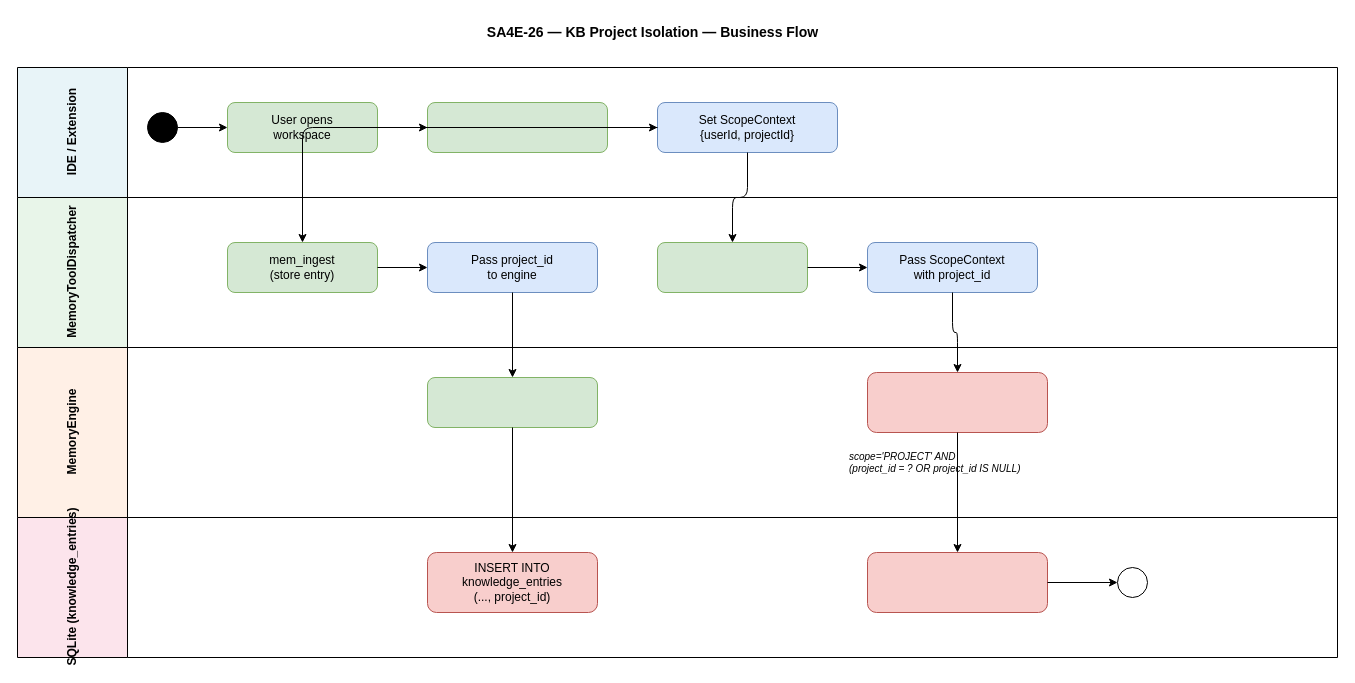
This 1355x683 diagram has some shape labels left out. The shapes that lost their labels are listed below. From the top down, each one's centre as x and y in pixels, then its label:
At (x=517, y=127): "Derive project_id from workspace path".
At (x=732, y=267): "mem_search (query entries)".
At (x=512, y=402): "INSERT with project_id column".
At (x=957, y=402): "buildScopeClause includes project_id filter".
At (x=957, y=582): "SELECT ... WHERE project_id = ? (PROJECT scope only)".
